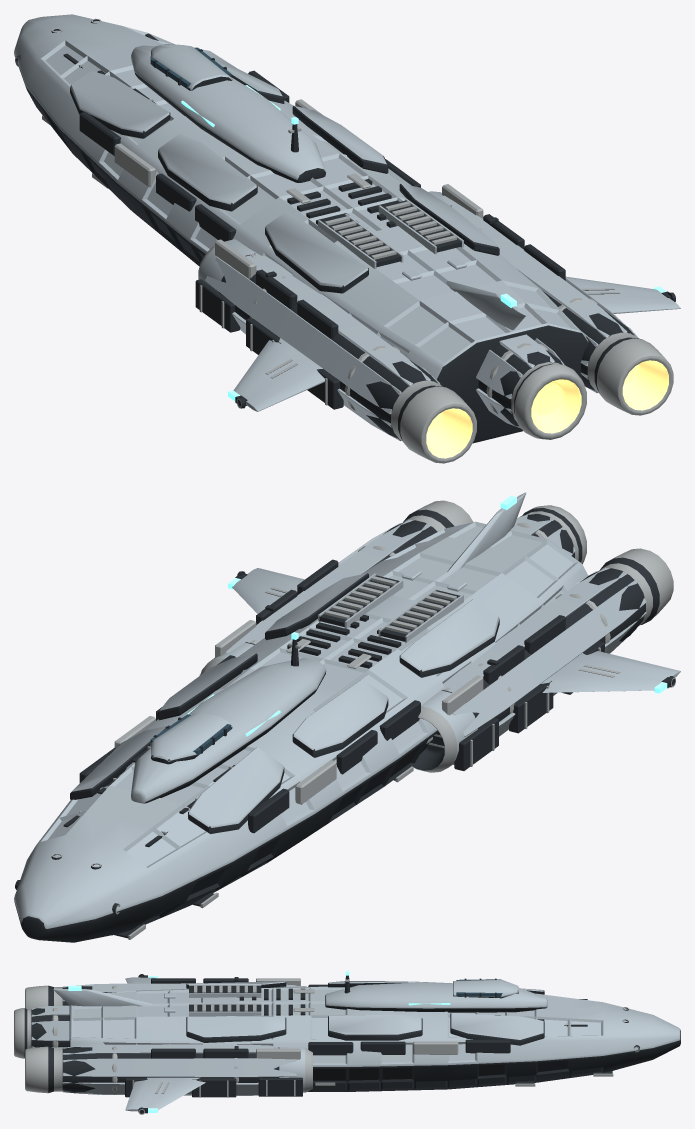
File: osprey.glb
The picture shows the model from 3 angles, top to bottom: view 1: azimuth 30°, elevation 25°; view 2: azimuth 150°, elevation 25°; view 3: azimuth 270°, elevation 25°; orthographic projection. The views are drawn at different scales.
Visible parts, largest first — view 1: Hull_Osprey; view 2: Hull_Osprey; view 3: Hull_Osprey.
Part boxes in pixels (x1=…): Hull_Osprey: x1=14, y1=14, x2=680, y2=463; Hull_Osprey: x1=14, y1=492, x2=680, y2=942; Hull_Osprey: x1=14, y1=971, x2=680, y2=1114.
Size of the model in its own units: 57.44 by 20.81 by 120.
